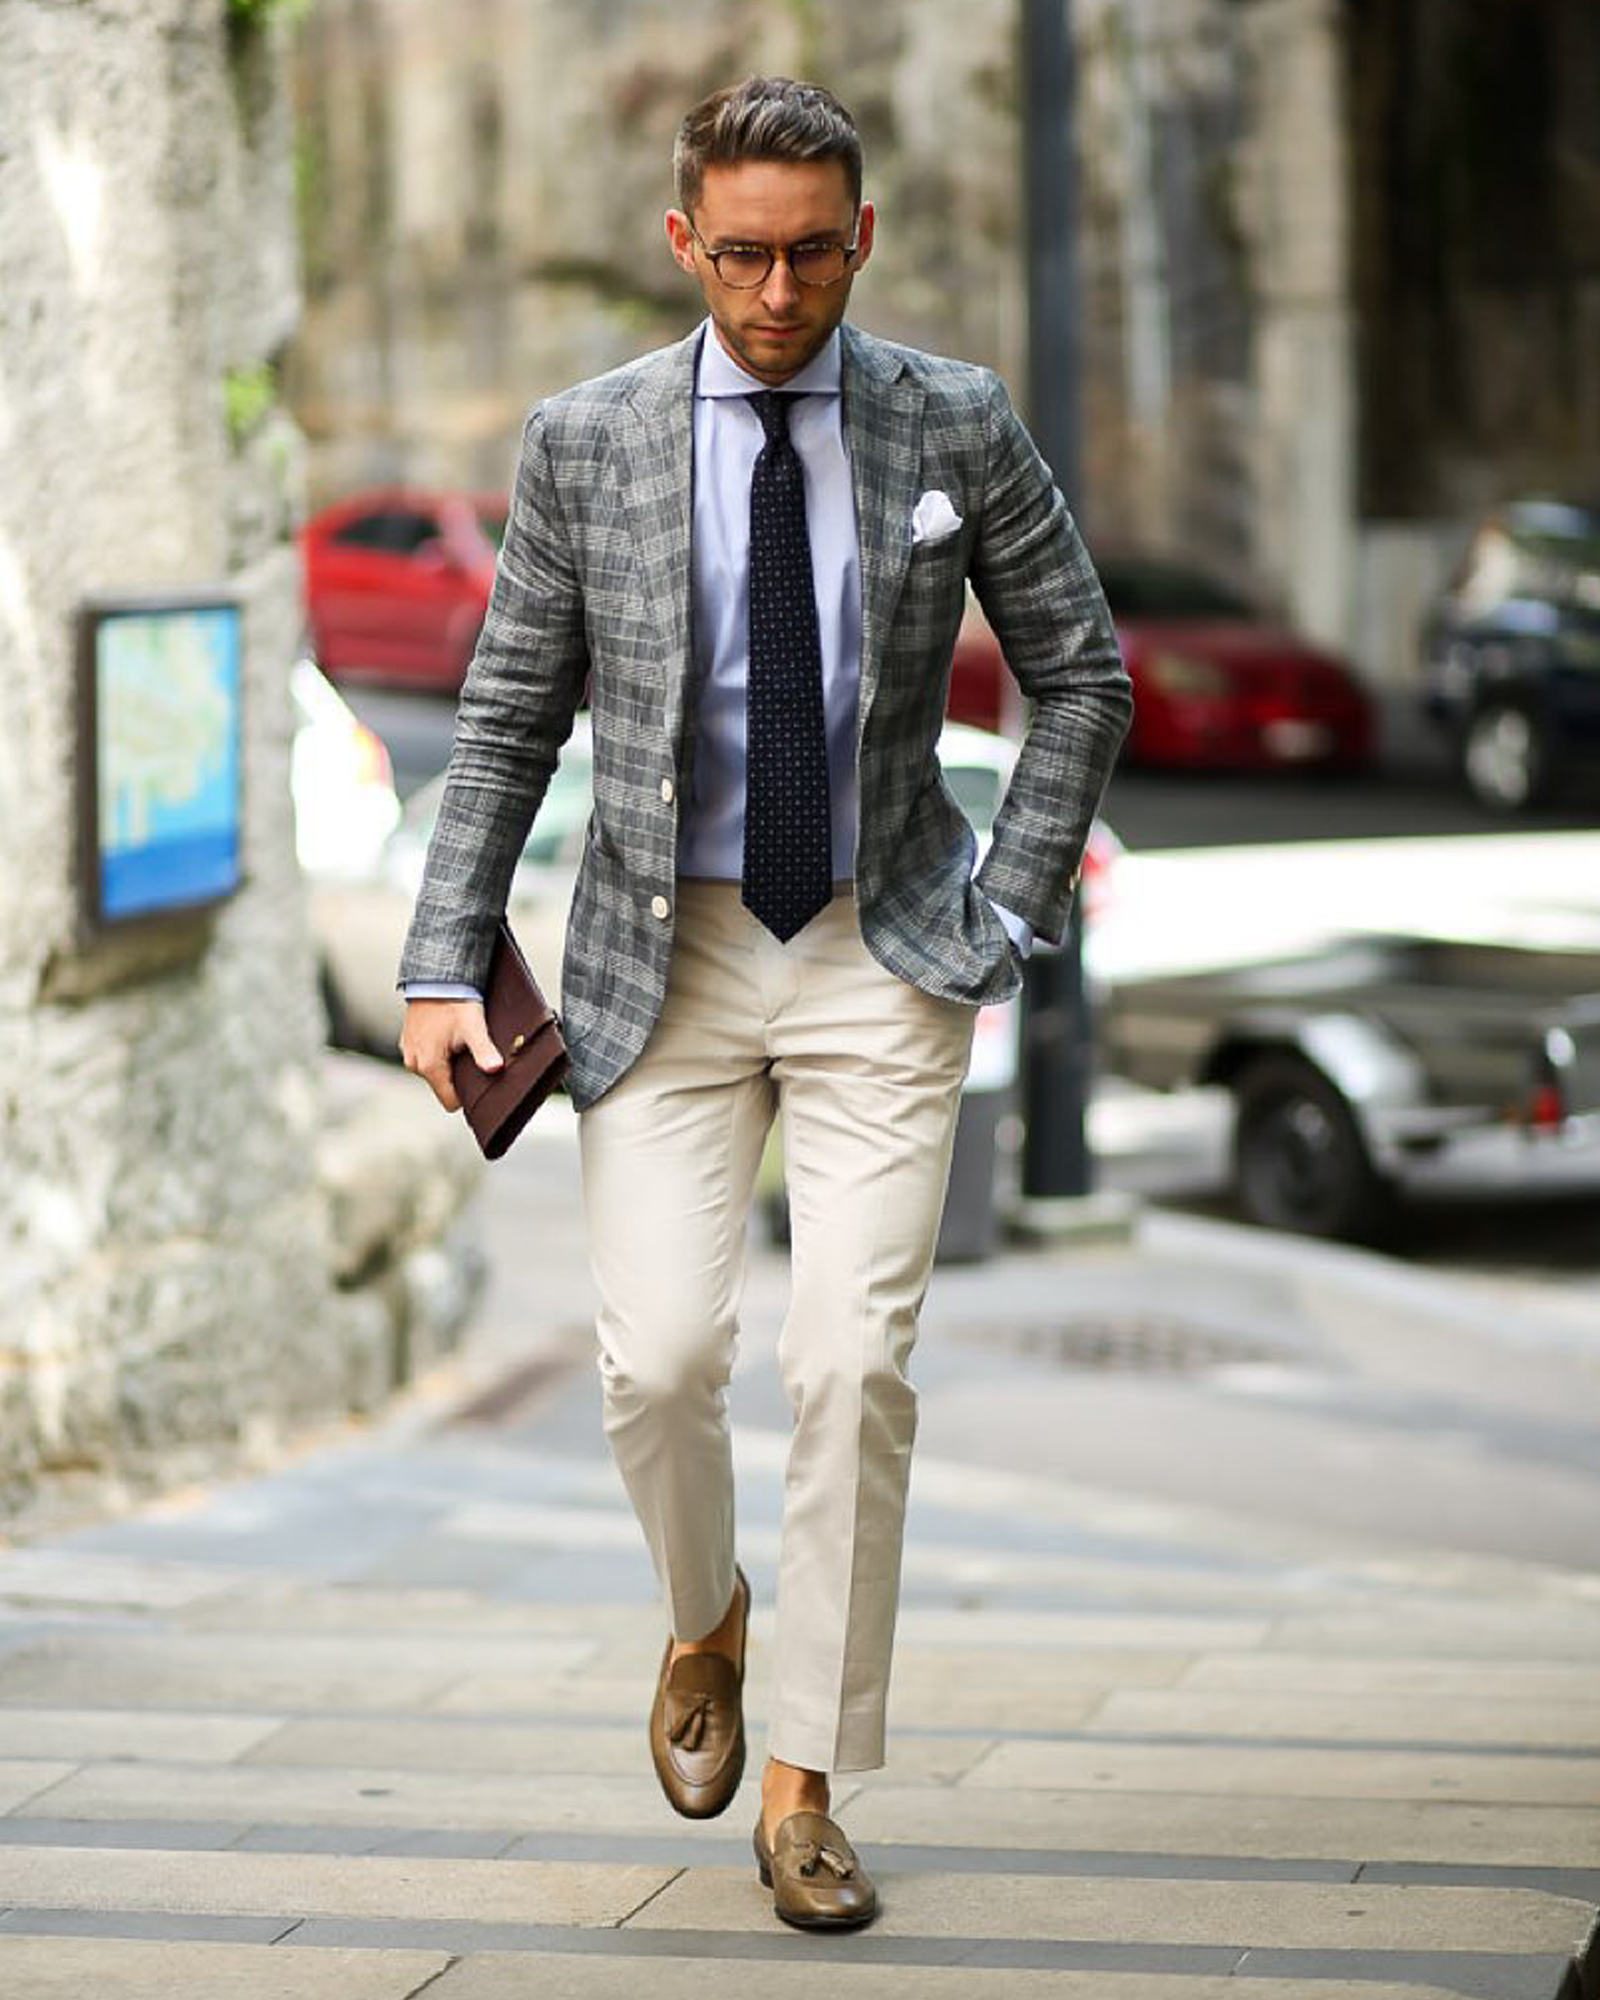Person: (395, 74, 1136, 1933)
